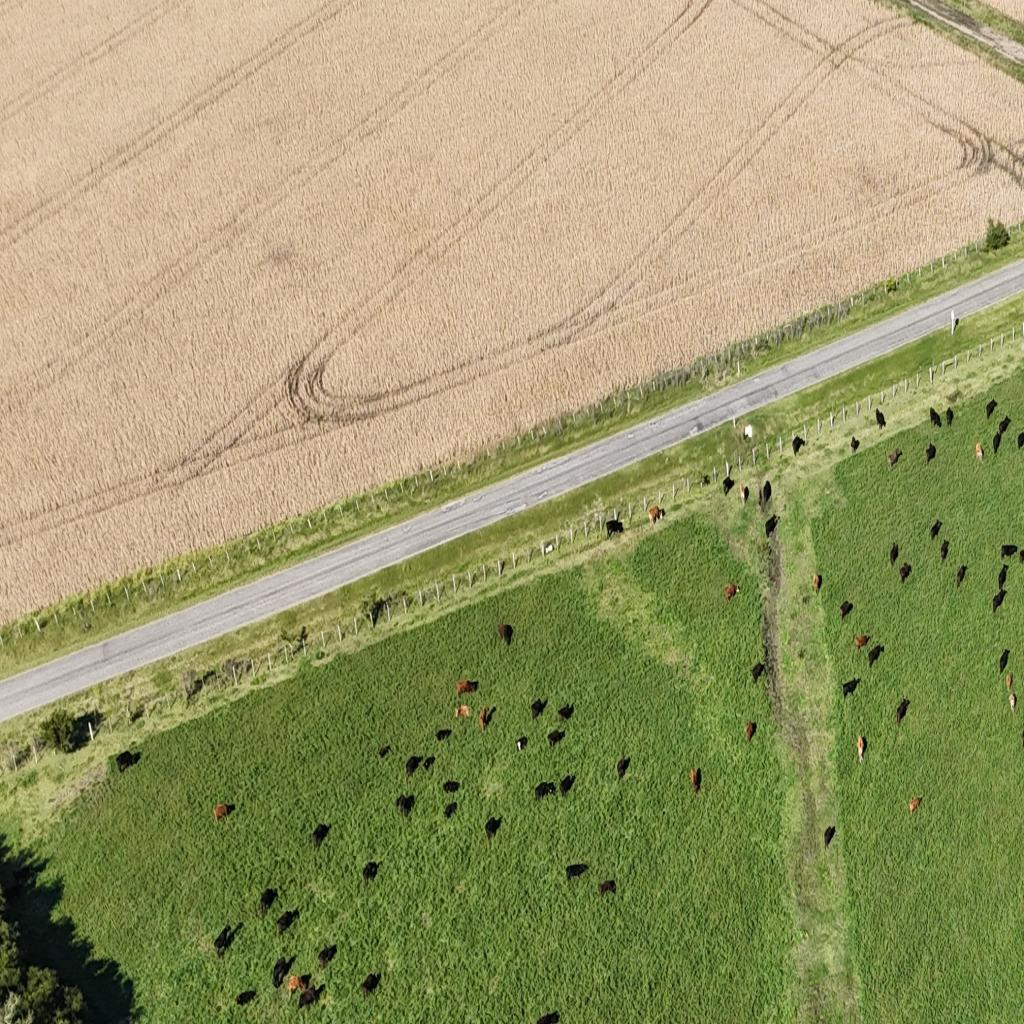cow: (1002, 665, 1018, 708), (4, 870, 25, 900), (276, 909, 298, 936), (272, 956, 290, 988), (294, 984, 316, 1009), (115, 751, 138, 773), (213, 926, 231, 954), (361, 972, 381, 996), (259, 888, 277, 914), (312, 824, 329, 850), (566, 863, 587, 884), (287, 974, 307, 996), (318, 942, 336, 966), (228, 922, 242, 952), (605, 516, 624, 538), (646, 503, 664, 526), (1001, 540, 1019, 563), (896, 697, 910, 726), (536, 780, 556, 800), (362, 860, 378, 884), (598, 879, 616, 900), (235, 989, 257, 1006), (484, 816, 499, 840), (531, 697, 546, 721), (405, 756, 423, 776), (557, 702, 575, 722), (560, 773, 575, 796), (399, 794, 413, 818), (842, 678, 858, 699), (213, 802, 229, 822), (690, 766, 701, 795), (999, 648, 1011, 674), (751, 662, 765, 684), (548, 729, 565, 747), (456, 679, 475, 695), (854, 633, 870, 651), (824, 824, 836, 848), (758, 485, 769, 511), (481, 706, 494, 728), (868, 646, 882, 666), (839, 600, 853, 620), (857, 734, 867, 762), (540, 1010, 560, 1024), (998, 415, 1011, 436), (724, 583, 739, 601), (999, 564, 1009, 591), (766, 514, 778, 536), (930, 407, 942, 429), (899, 562, 911, 584), (992, 592, 1005, 612), (909, 796, 922, 816), (994, 429, 1004, 455), (616, 753, 626, 779), (440, 778, 457, 793), (745, 721, 756, 744), (444, 801, 458, 819), (926, 442, 936, 466), (812, 572, 822, 595), (455, 702, 469, 718), (723, 476, 734, 496), (930, 520, 941, 540), (891, 448, 903, 466), (497, 622, 507, 643), (436, 728, 452, 741), (890, 542, 898, 568), (975, 441, 984, 464), (876, 409, 886, 429), (940, 540, 950, 560), (986, 399, 997, 417), (515, 737, 527, 753), (792, 436, 802, 455), (956, 567, 966, 586), (378, 744, 391, 758), (738, 484, 746, 506), (946, 407, 954, 428), (851, 435, 859, 453)
